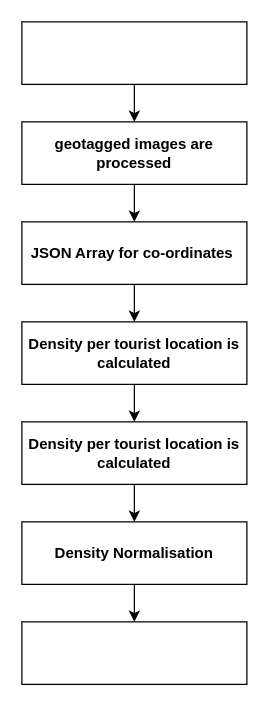
The diagram is 269 pixels wide and 706 high, and some of its shapes have lost their labels. The box of each missing label's shape, as (x1, y1, x2, y2) in pixels:
Backend Server is started: (21, 21, 247, 84)
Backend Server is up and ready to serve user requests: (21, 621, 247, 684)
